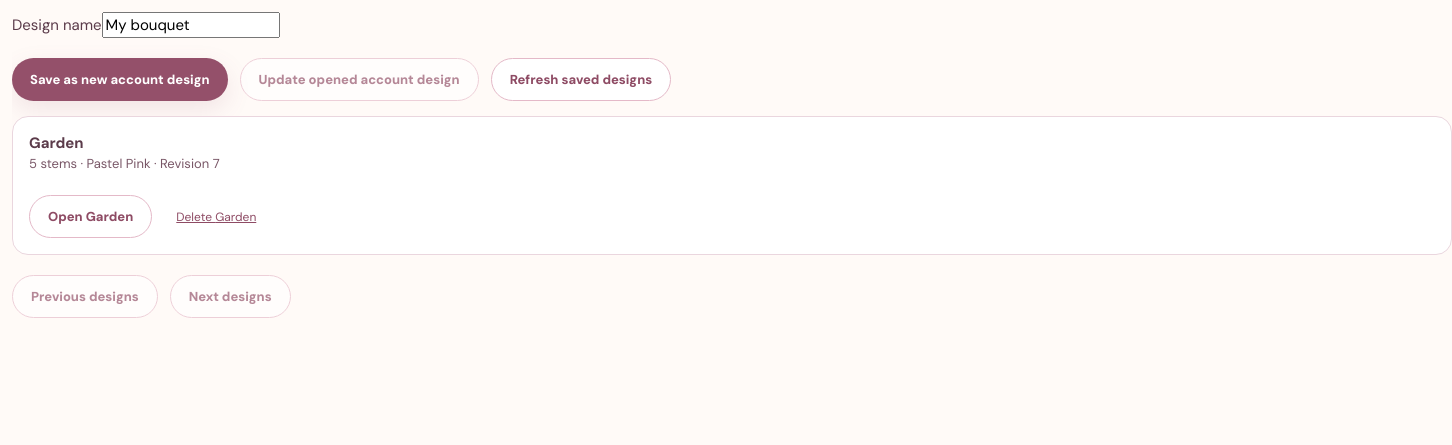
conflicts retain the current bouquet and never silently retry an update
The width and height of the screenshot is (1452, 445).
Click the button "Open Garden" at (91, 217), box [29,195,152,238]
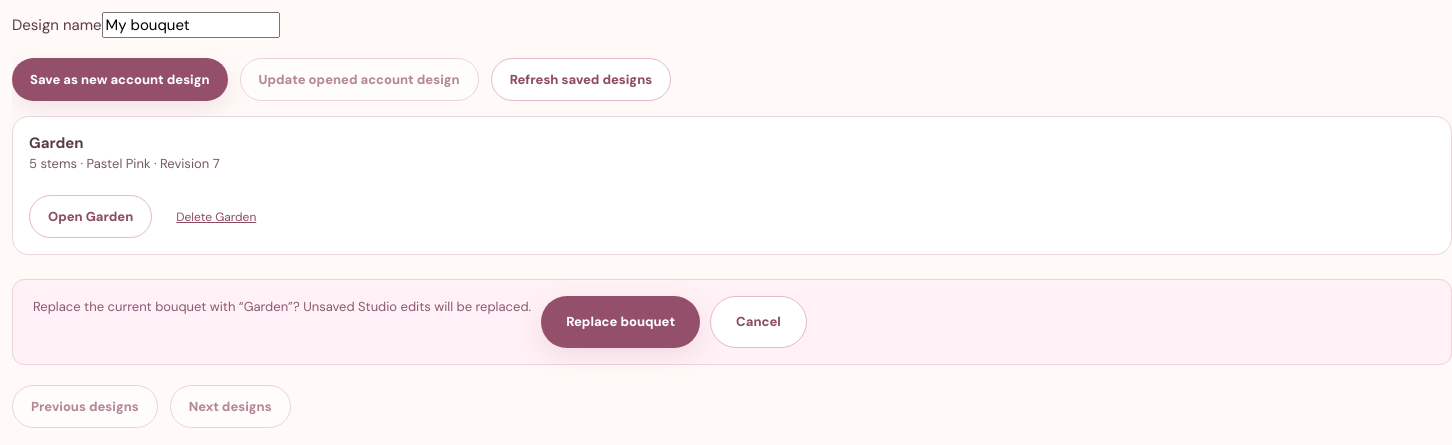
Click the button "Replace bouquet" at (621, 322), box [541,296,700,348]
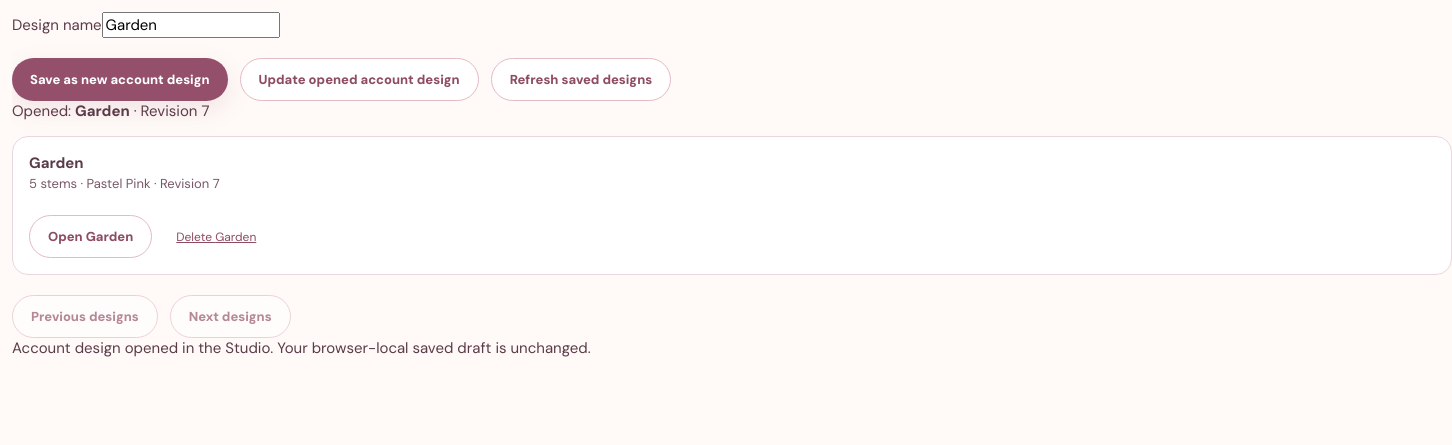
Click the button "Update opened account design" at (359, 80), box [240,58,479,101]
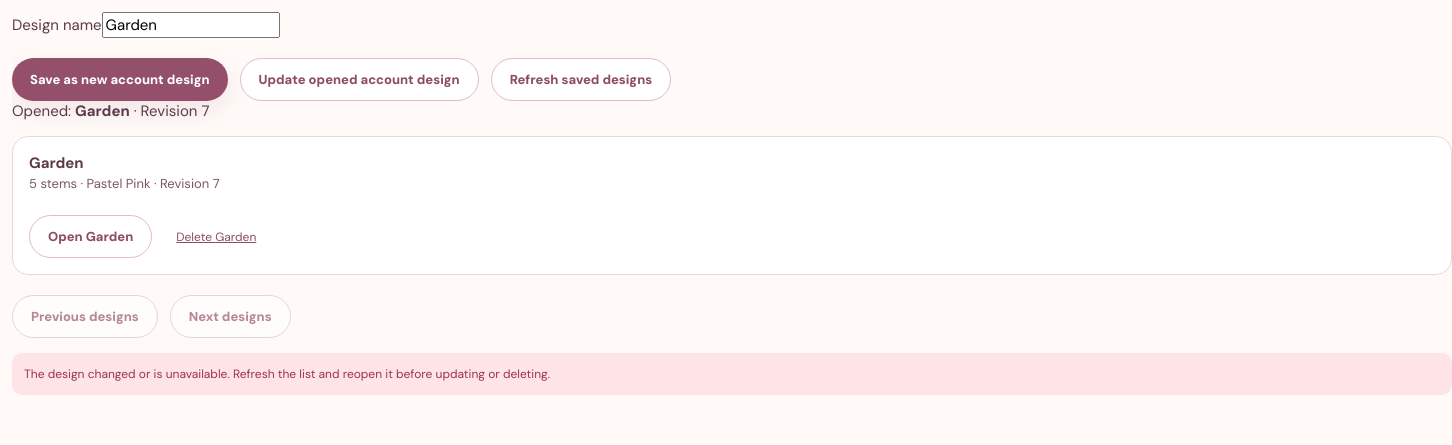
Check: the message shows "Refresh", box [24,366,550,382]
